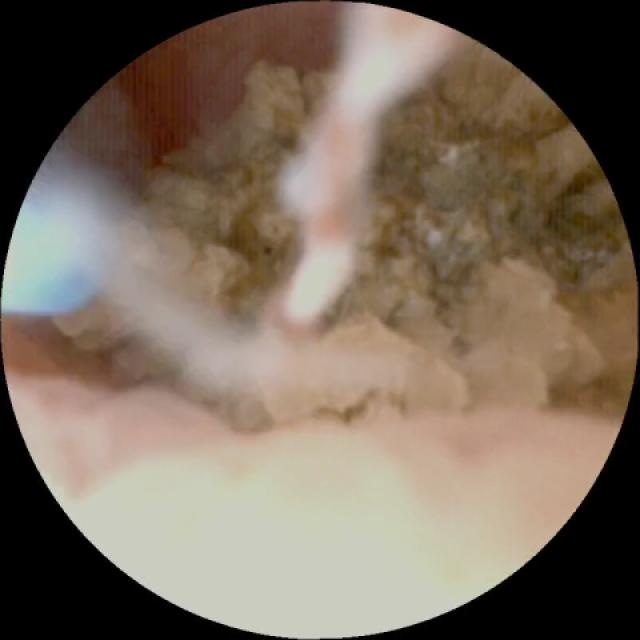fiber: (8, 189, 119, 312)
stone: (234, 44, 627, 433), (63, 57, 335, 402)
